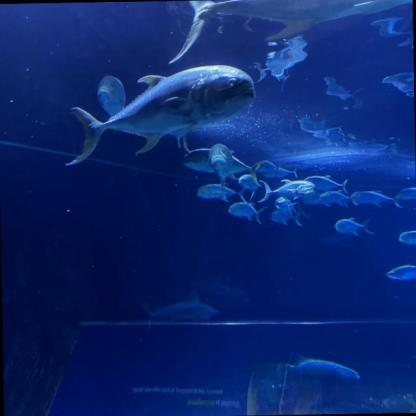fish: (60, 64, 258, 166), (279, 354, 359, 387), (208, 142, 249, 182), (254, 176, 314, 201), (250, 158, 299, 181), (350, 187, 402, 206), (304, 173, 349, 194), (226, 200, 267, 222), (332, 216, 374, 236), (195, 182, 244, 199), (314, 190, 354, 208), (272, 194, 301, 218), (385, 262, 415, 283), (392, 183, 416, 205), (268, 211, 302, 226), (396, 226, 416, 249)
shark: (156, 0, 413, 70), (142, 297, 219, 326), (190, 274, 249, 303)
